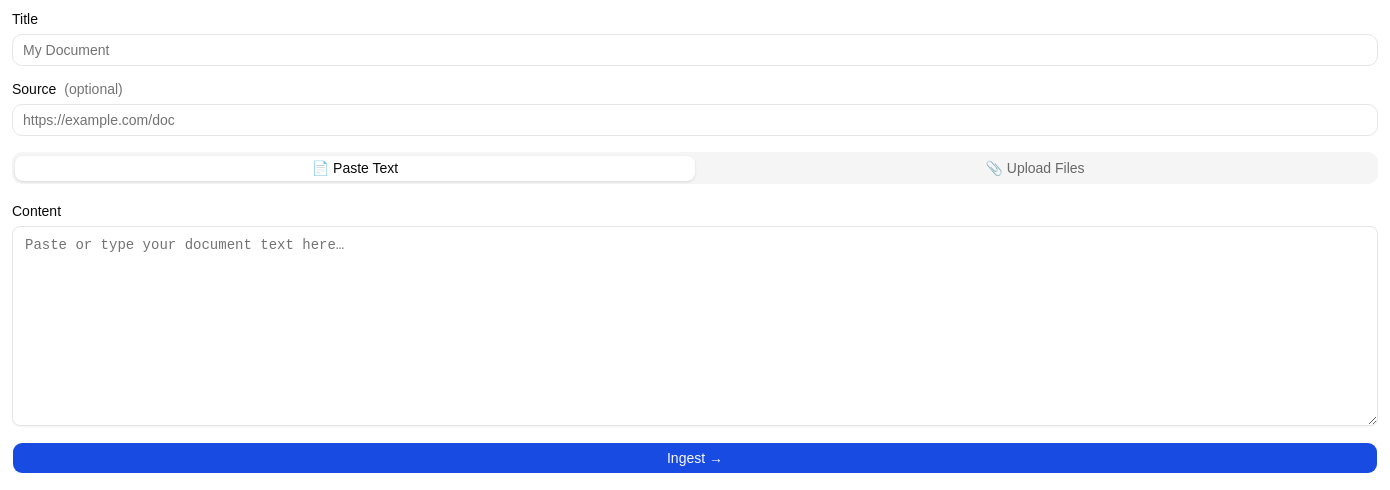
it: IngestDocumentForm — tab switching › switching back to text mode shows textarea again
Click the tab "📎 Upload Files" at (1035, 168), box [695,156,1375,180]
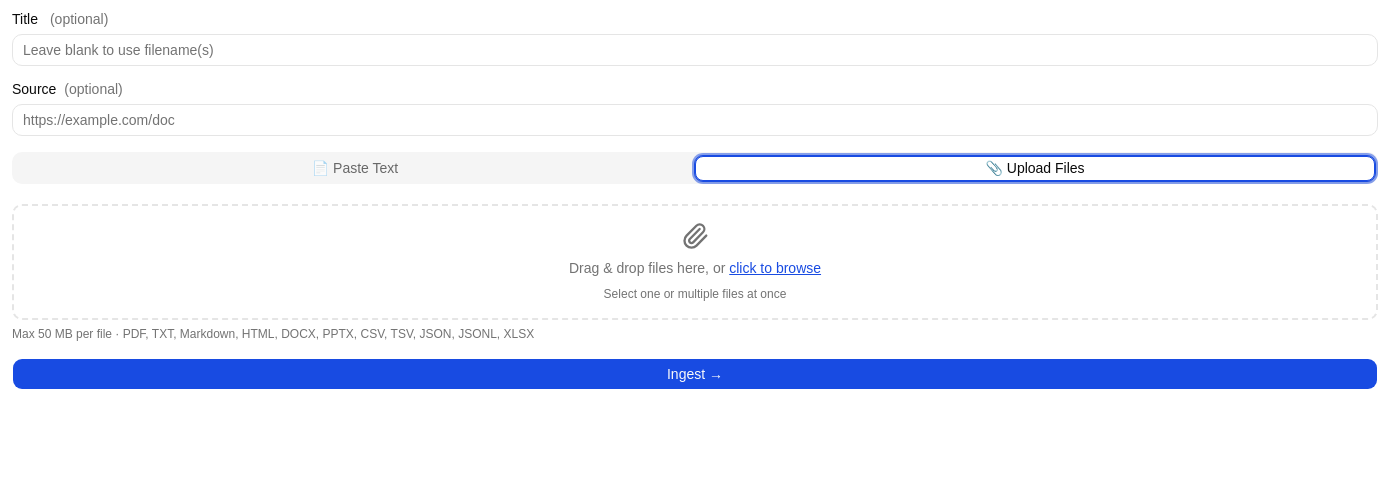
Click the tab "📄 Paste Text" at (355, 168), box [15,156,695,180]
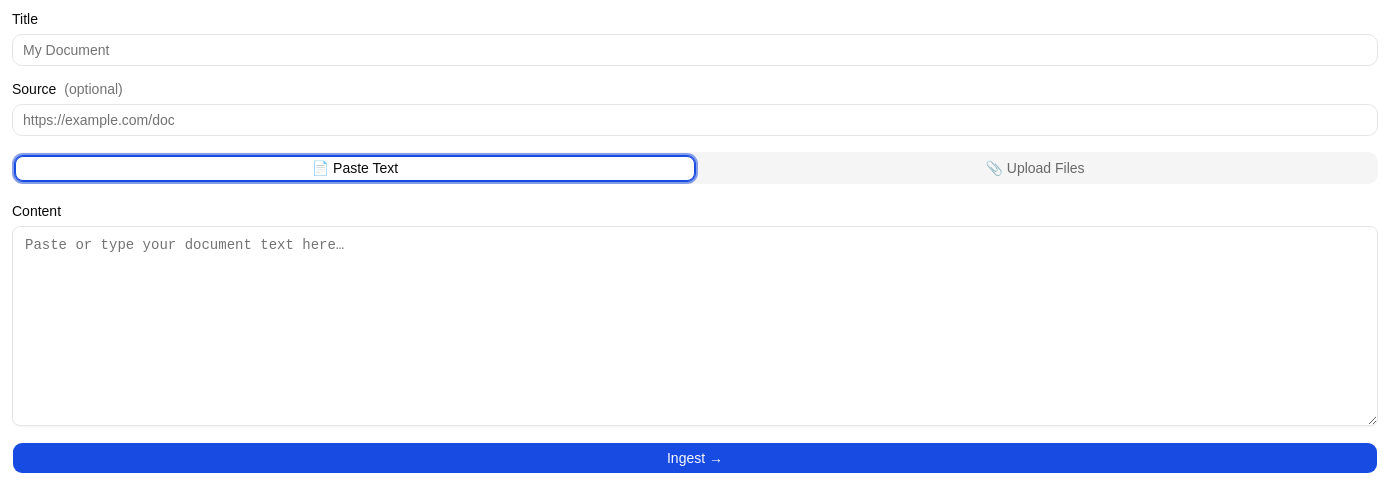
Expected: the text box with placeholder "Paste or type your document text here…" is shown, [12,226,1378,426]
